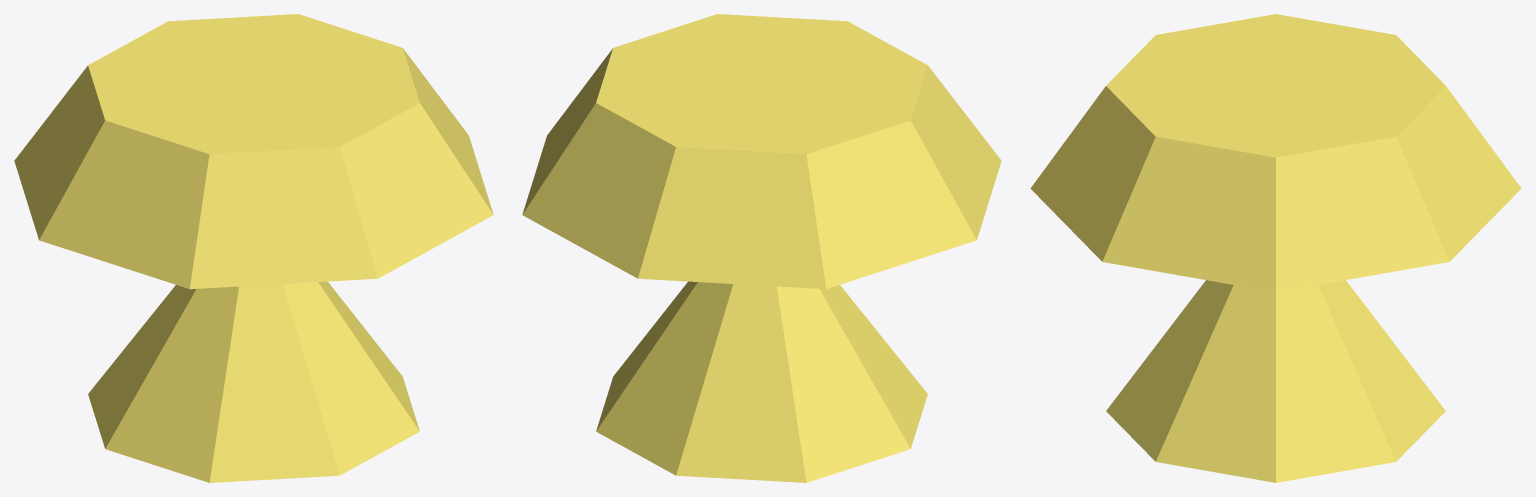
The model's file is gem.glb.
3 views of the same model, side by side, from view 1: azimuth 30°, elevation 25°; view 2: azimuth 150°, elevation 25°; view 3: azimuth 270°, elevation 25° (orthographic).
Size of the model in its own units: 26 by 19 by 26.
